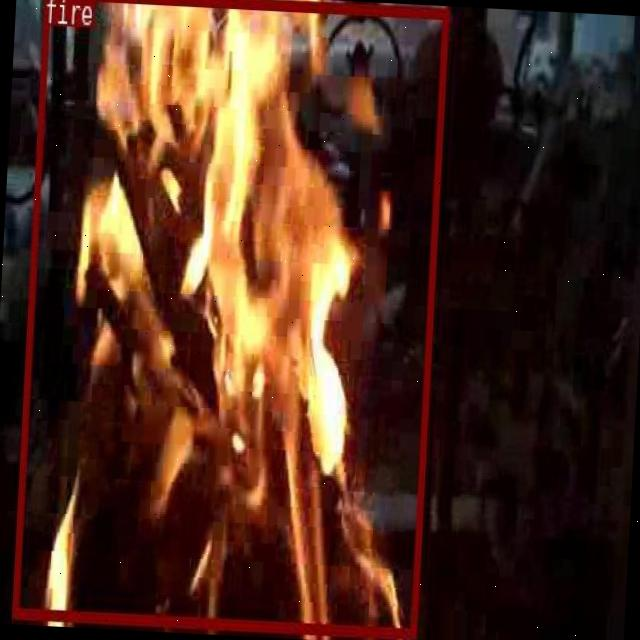fire: (12, 0, 447, 637)
